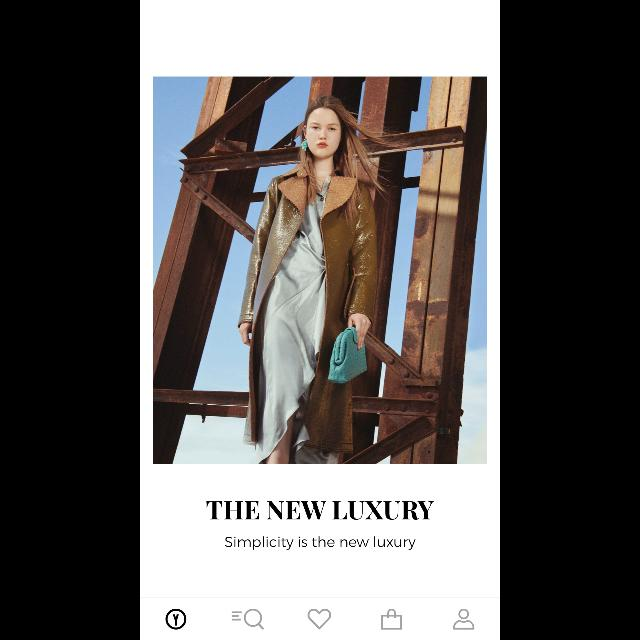icon: (232, 608, 264, 630), (308, 608, 332, 630), (453, 608, 475, 630), (382, 608, 402, 630)
image: (154, 76, 486, 464), (166, 608, 187, 630)
text: (206, 502, 434, 520), (224, 536, 416, 550)
